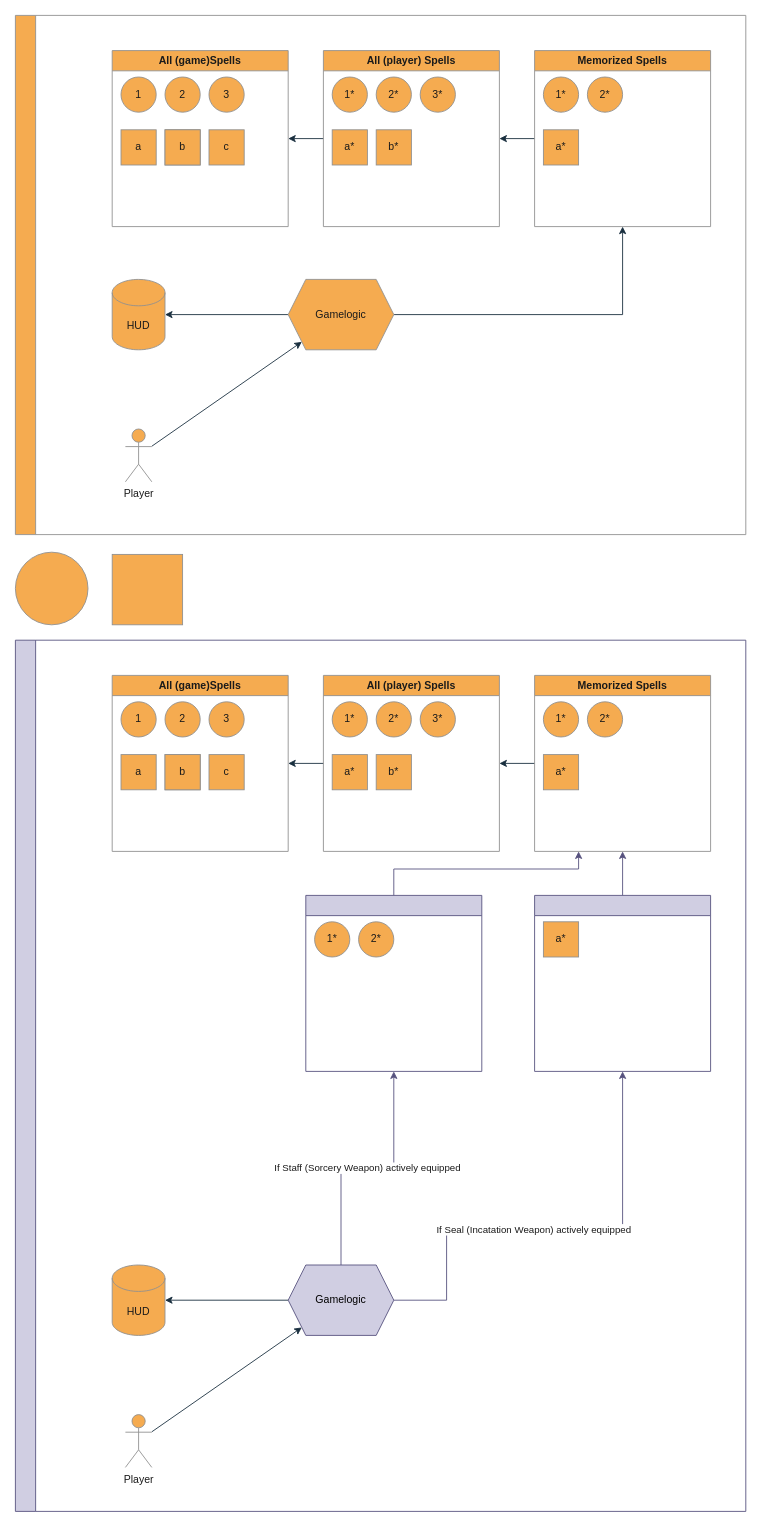
This 761x1527 diagram has some shape labels left out. Each missing label, with the box of its shape:
Incantations: (111, 554, 183, 625)
Memorized Incantations: (534, 895, 711, 1071)
Memorized Sorceries: (305, 895, 482, 1071)
Modded Behavior: (15, 639, 746, 1511)
Sorceries: (15, 551, 88, 625)
Vanilla (assumed): (15, 15, 746, 535)
